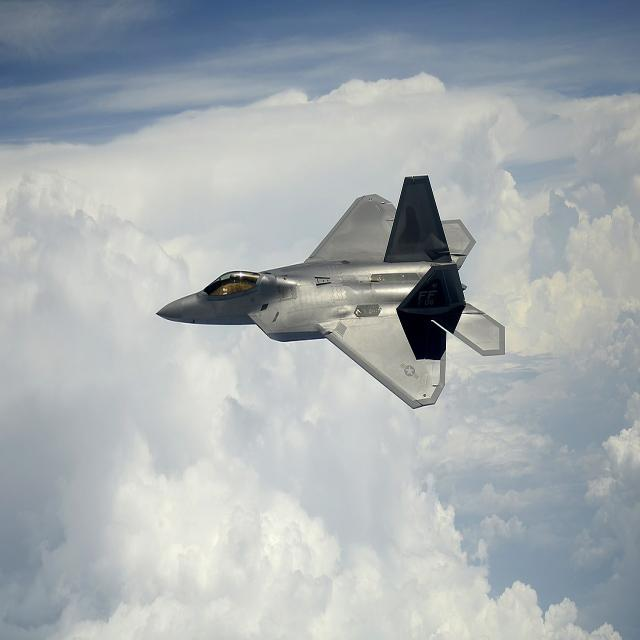MIL_Plane: (155, 174, 505, 411)
